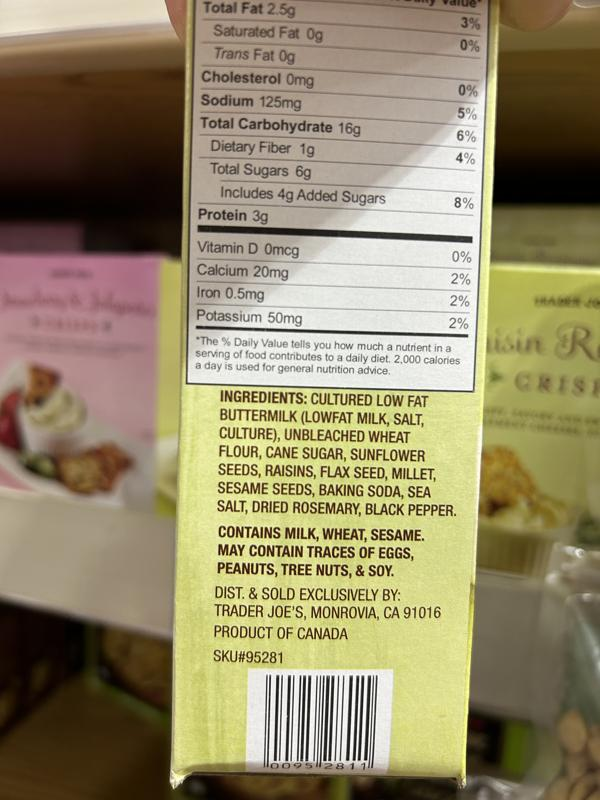ingredients: (215, 388, 458, 519)
